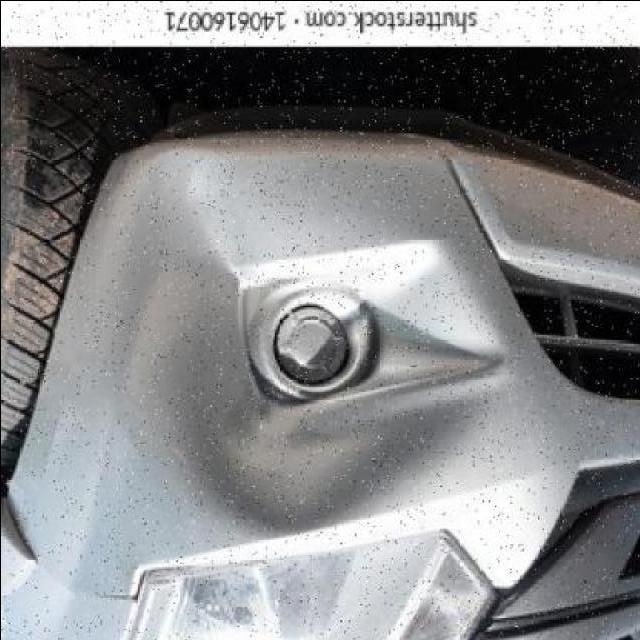front-bumper-dent: (20, 127, 638, 551)
